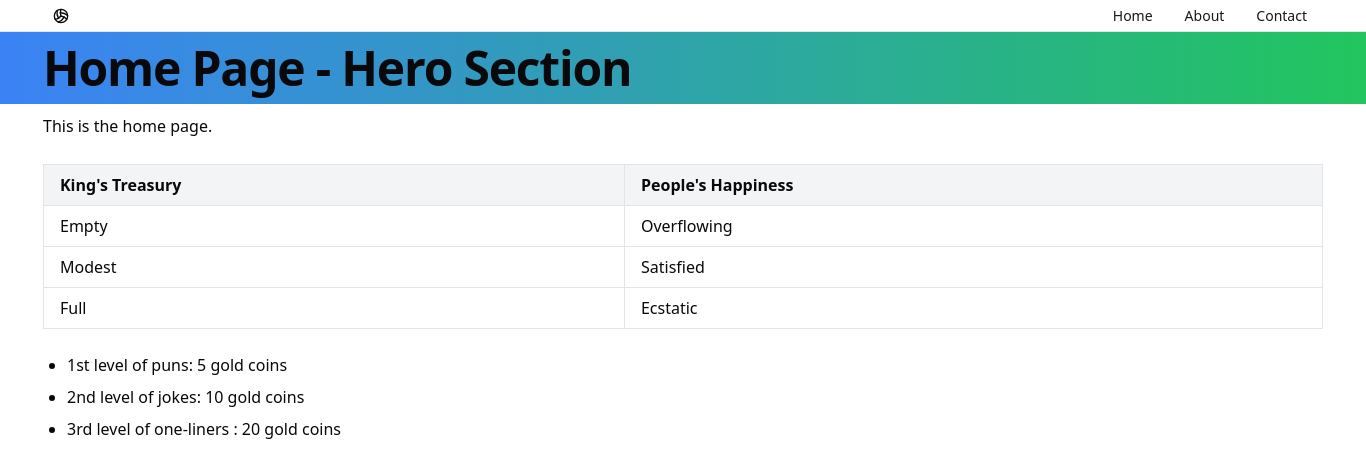
Test case: Routing Tests › navigates to AboutPage when About link is clicked
This screenshot has width=1366, height=456.
Expected: the navigation bar with test id "nav" is shown, 1113,6 -> 1307,24
Expected: the link with test id "link-home" is shown, 1113,6 -> 1153,24
Simulate a click on the About link
Click the link with test id "link-about": point(1204, 15) 1185,6 -> 1224,24
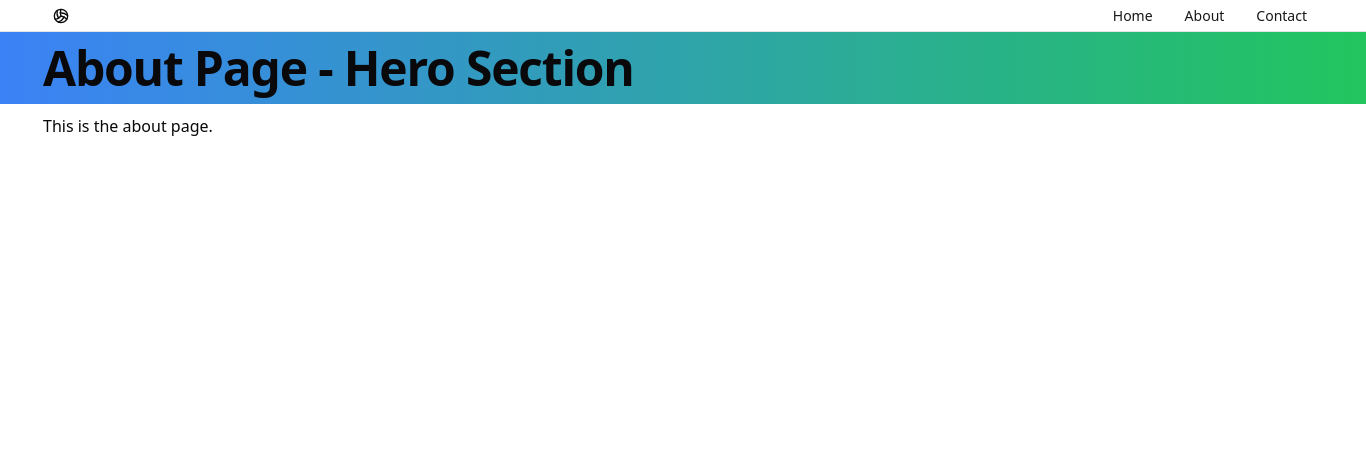
Expected: the navigation bar with test id "nav" is shown, 1113,6 -> 1307,24
Expected: the element with test id "page-about" is shown, 0,32 -> 1365,137
